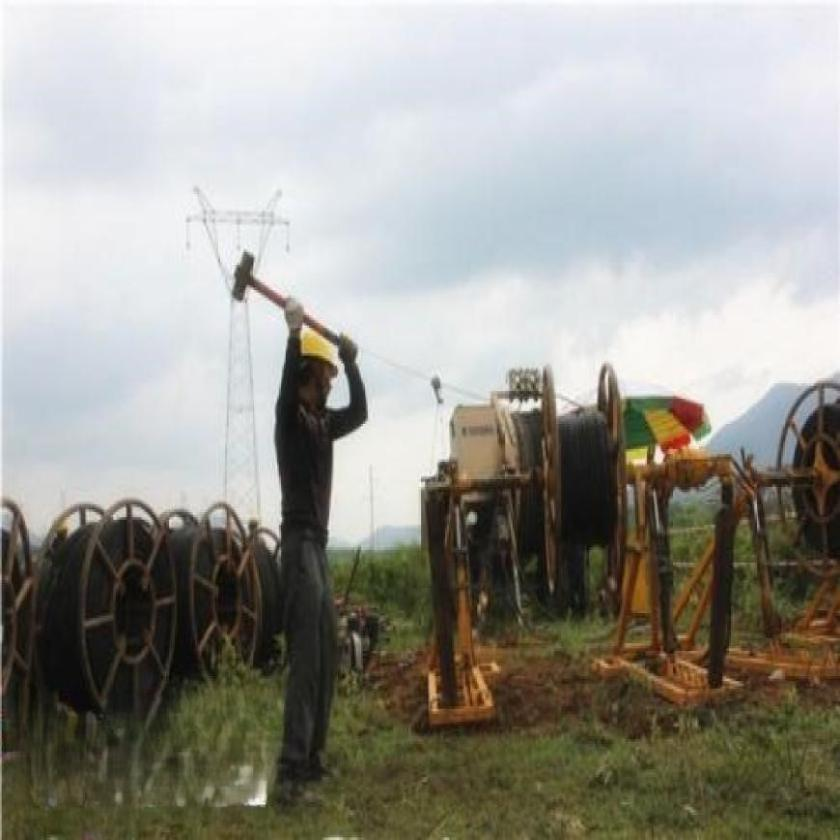Con_casco: (297, 332, 346, 408)
